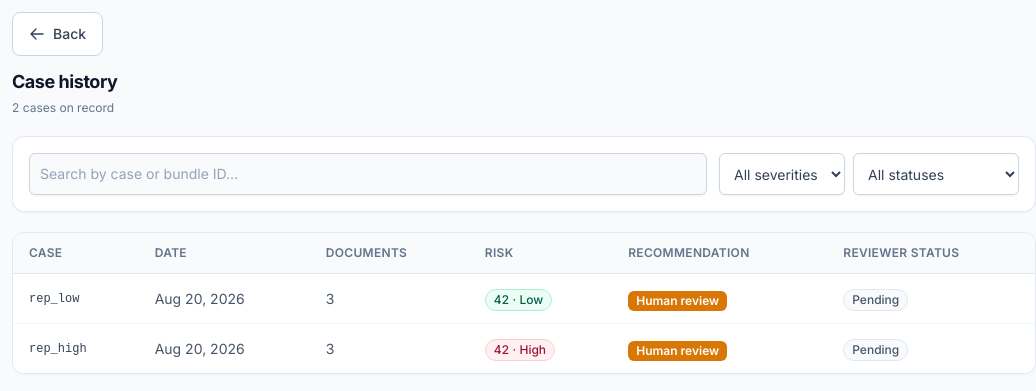
CaseHistory › filters rows by severity
Expected: the button "rep_low" is shown, [29,291,79,307]
Select "High" in the 1st dropdown named "filter by risk severity": (782, 174) [719,153,845,195]
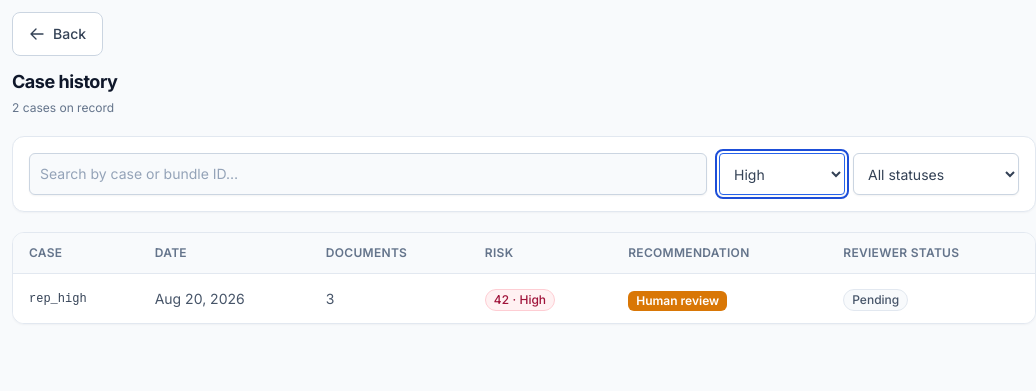
Expected: the button "rep_high" is shown, [29,291,87,307]
Result: the button "rep_low" is gone
